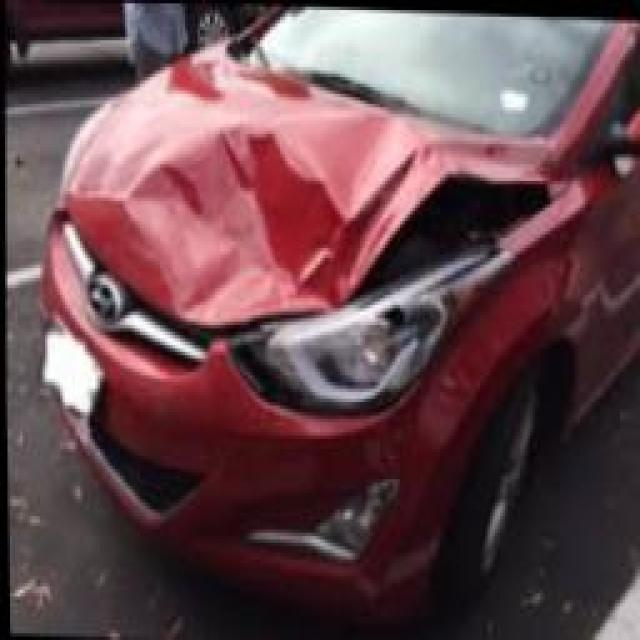replaceable: (116, 109, 514, 304), (245, 321, 455, 414)
